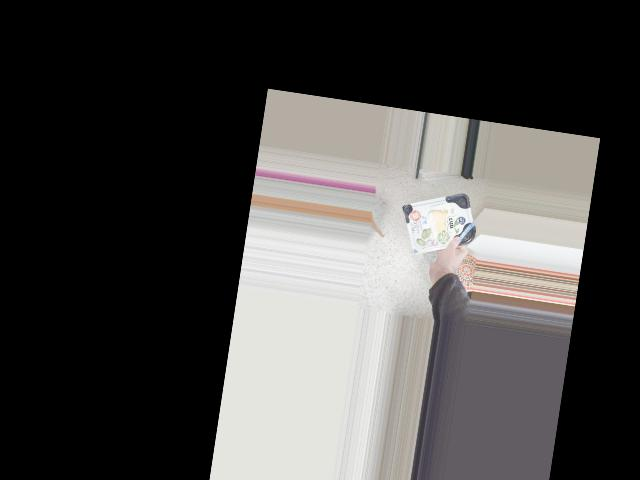cheese: (404, 198, 471, 254)
